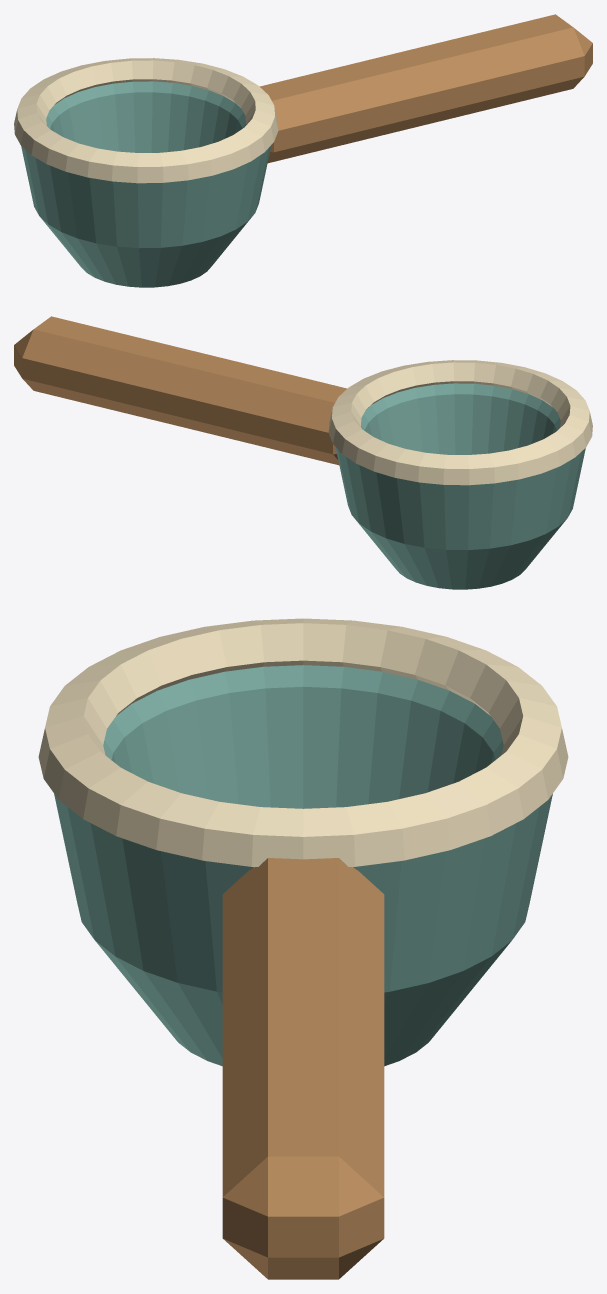
3 views of the same model, one above another, from view 1: azimuth 30°, elevation 25°; view 2: azimuth 150°, elevation 25°; view 3: azimuth 270°, elevation 25° (orthographic). The views are drawn at different scales.
Parts seen in each view (by area): view 1: kitchen-measuring-spoon-01; view 2: kitchen-measuring-spoon-01; view 3: kitchen-measuring-spoon-01.
Part boxes in pixels (x1,y1,x2,y2): kitchen-measuring-spoon-01: (14,14,592,287); kitchen-measuring-spoon-01: (14,316,592,589); kitchen-measuring-spoon-01: (38,618,568,1279).
Size of the model in its own units: 0.1975 by 0.052 by 0.082.
